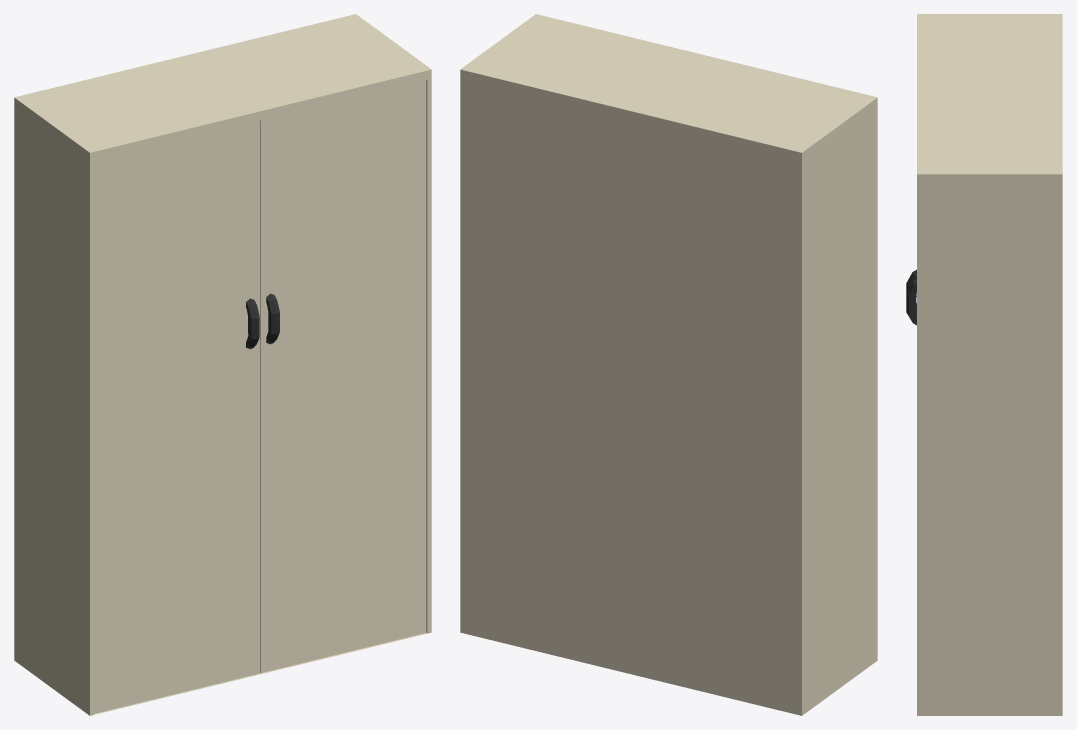
The model's file is Ármario biblioteca.fbx.
3 renders of one model, left to right at view 1: azimuth 30°, elevation 25°; view 2: azimuth 150°, elevation 25°; view 3: azimuth 270°, elevation 25°, orthographic. The views are drawn at different scales.
Visible parts, largest first — view 1: ARMARIO, ALÇA; view 2: ARMARIO; view 3: ARMARIO, ALÇA.
Part boxes in pixels (x1,y1,x2,y2): ARMARIO: [14, 14, 431, 715]; ALÇA: [246, 293, 279, 349]; ARMARIO: [460, 14, 877, 715]; ARMARIO: [917, 14, 1062, 715]; ALÇA: [906, 269, 916, 325].
Size of the model in its own units: 1.27 by 1.99 by 0.5219.
